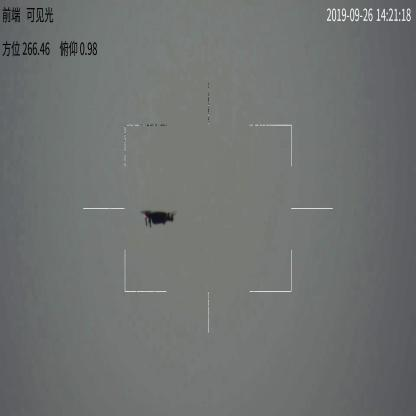uav: (138, 206, 180, 231)
